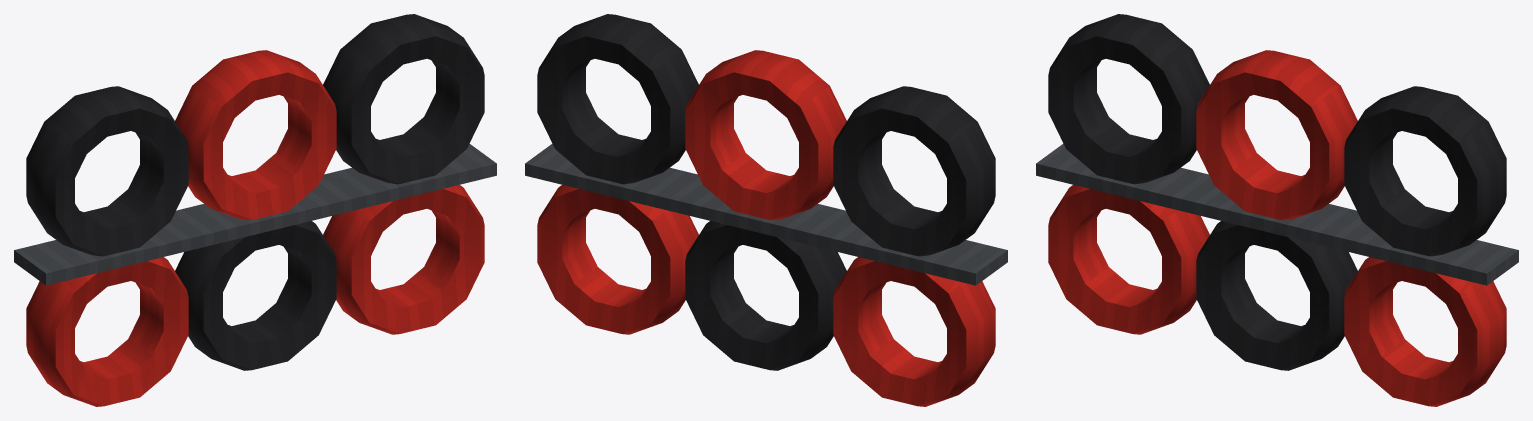
File: barreira_pneus.glb
3 views of the same model, side by side, from view 1: azimuth 30°, elevation 25°; view 2: azimuth 150°, elevation 25°; view 3: azimuth 330°, elevation 25° (orthographic).
Parts seen in each view (by area): view 1: Inteiro, Peca_00, Peca_02, Peca_04; view 2: Inteiro, Peca_02, Peca_00; view 3: Inteiro, Peca_04, Peca_02.
Boxes of the visible parts, x1=… form: Inteiro: x1=14, y1=14, x2=496, y2=406; Peca_00: x1=47, y1=334, x2=185, y2=404; Peca_02: x1=195, y1=331, x2=252, y2=370; Peca_04: x1=340, y1=260, x2=483, y2=333; Inteiro: x1=525, y1=14, x2=1007, y2=406; Peca_02: x1=774, y1=318, x2=815, y2=368; Peca_00: x1=835, y1=338, x2=886, y2=383; Inteiro: x1=1036, y1=14, x2=1518, y2=406; Peca_04: x1=1347, y1=338, x2=1474, y2=405; Peca_02: x1=1285, y1=318, x2=1326, y2=370.
Size of the model in its own units: 1.95 by 1.24 by 0.24.
1 material, 1 textured.
